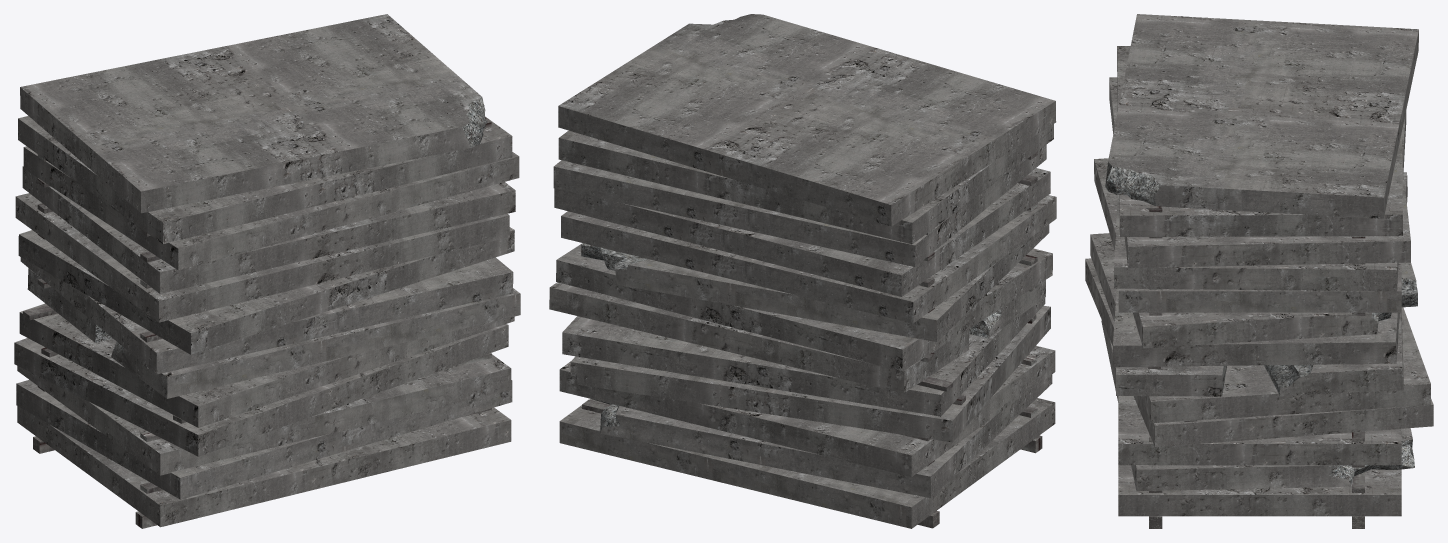
The model's file is Conctereblocks01.FBX.
The picture shows the model from 3 angles, left to right: view 1: azimuth 30°, elevation 25°; view 2: azimuth 150°, elevation 25°; view 3: azimuth 270°, elevation 25°; orthographic projection.
Visible parts, largest first — view 1: Conctereblocks01; view 2: Conctereblocks01; view 3: Conctereblocks01.
Boxes of the visible parts, x1,y1,x2,y2 form: Conctereblocks01: (14,14,520,528); Conctereblocks01: (549,14,1056,528); Conctereblocks01: (1085,14,1433,528).
Size of the model in its own units: 73.02 by 61.13 by 56.69.
